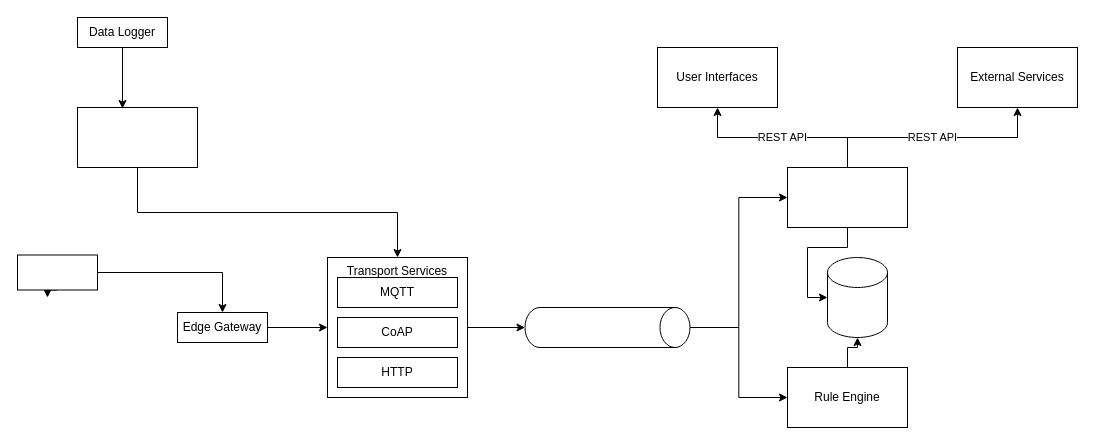
Some shapes in this 1095 by 445 pixel diagram are drawn without their labels. Each missing label, with the centre of its shape:
"Core Services" goes at point 847,197.
"Data Storage" goes at point 857,297.
"Message Queue" goes at point 607,327.
"Smart Sensors" goes at point 57,272.
"The Things Network (LoRaWAN)" goes at point 137,137.
